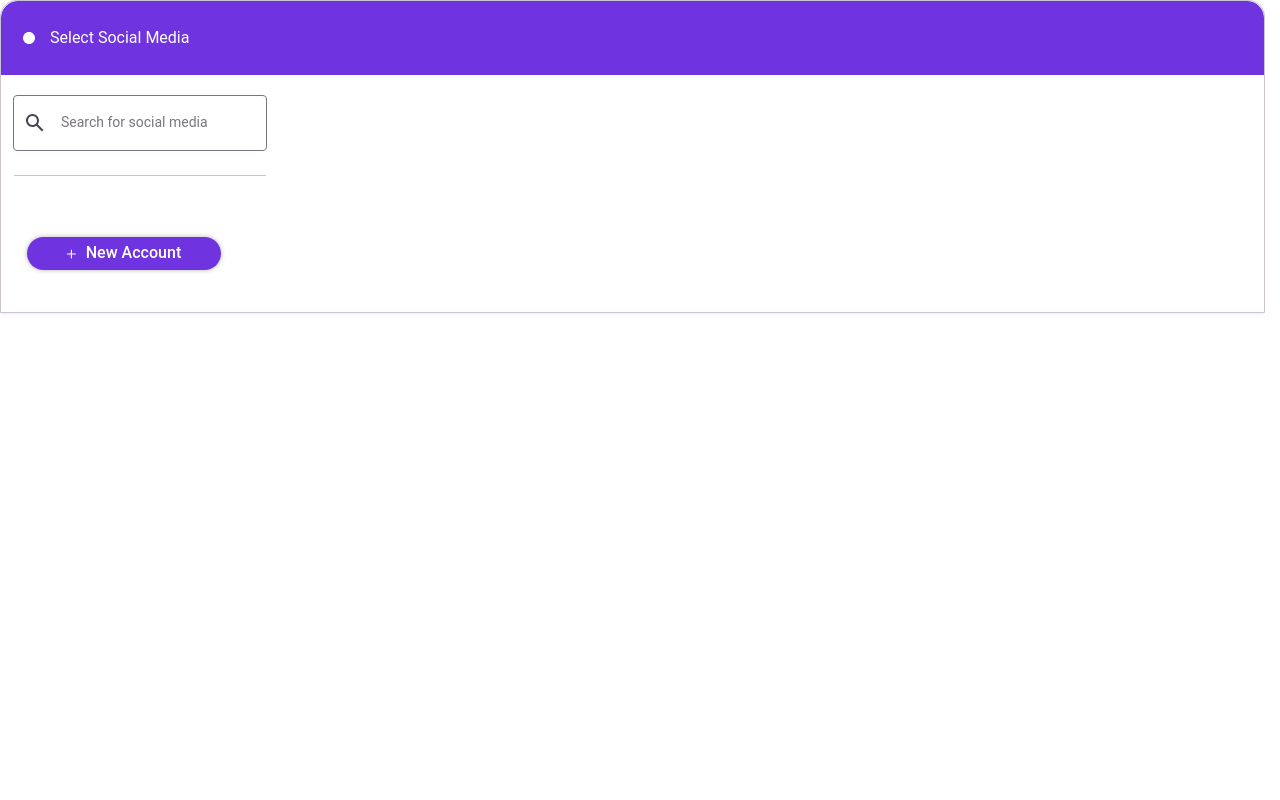
Test: Sidebar component › when filters accordion content › by account username
This screenshot has width=1280, height=800.
Type "Twitter" into the field with placeholder "Search for social media" at point(140, 123), box [11,101,269,145]
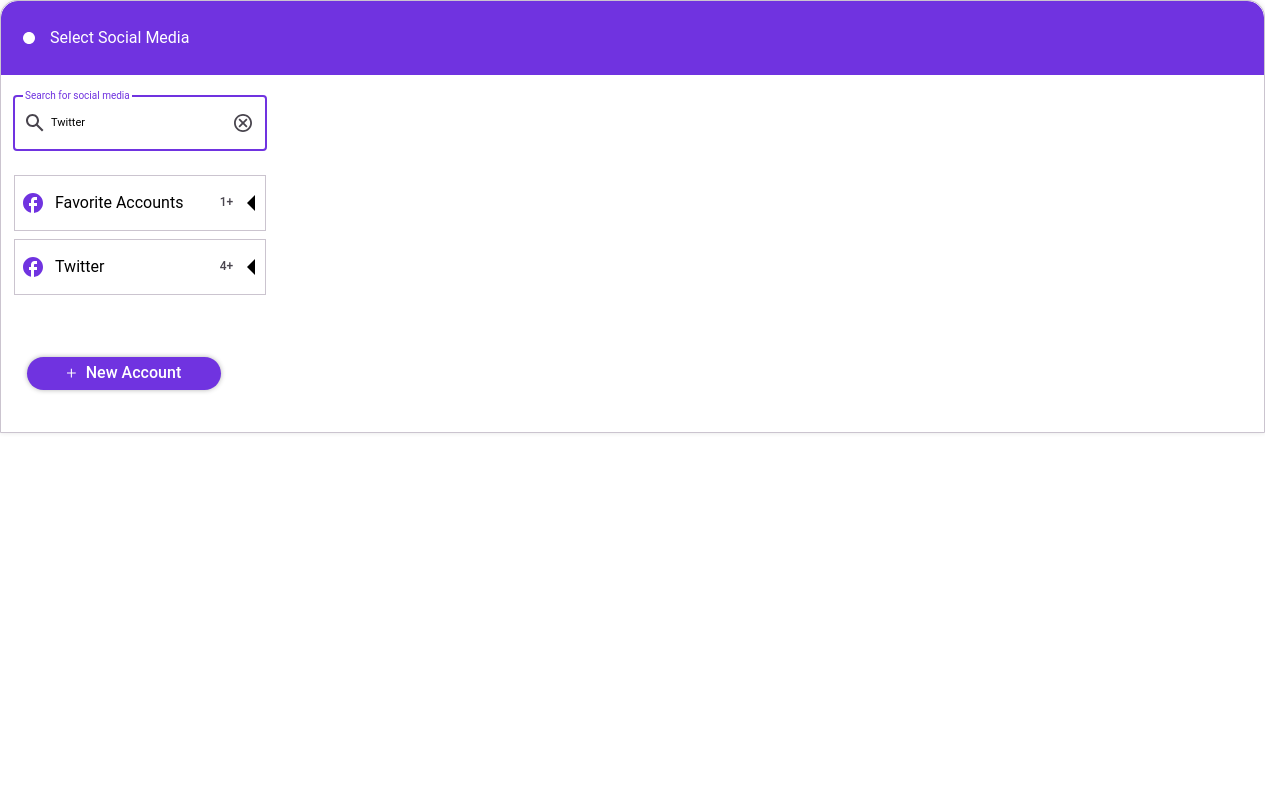
Result: the button "Discord" is gone
Click the text "Twitter" at point(80, 267), box [55,258,104,276]
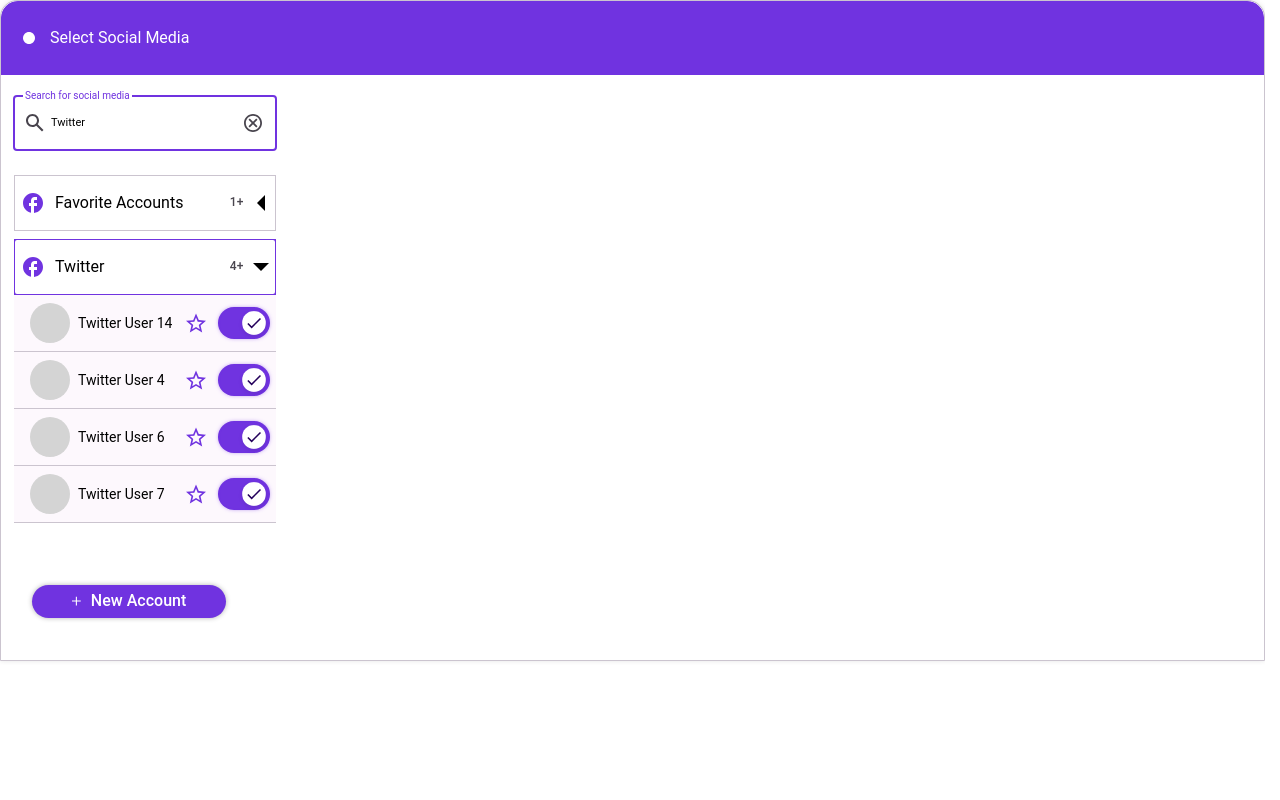
Expected: the button "Discord" is not shown
Result: the text "Twitter User 14" is shown at [78,315,172,331]
